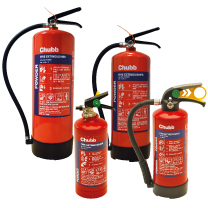fire: (2, 7, 73, 160), (128, 83, 206, 198), (92, 27, 151, 160), (74, 91, 108, 199)
